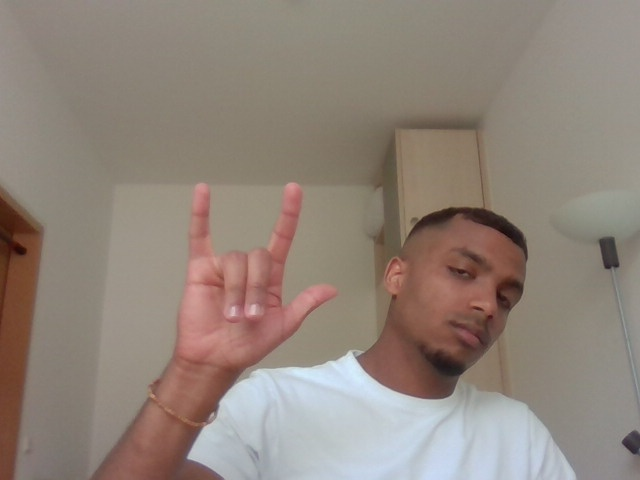absolutely: (166, 164, 347, 380)
